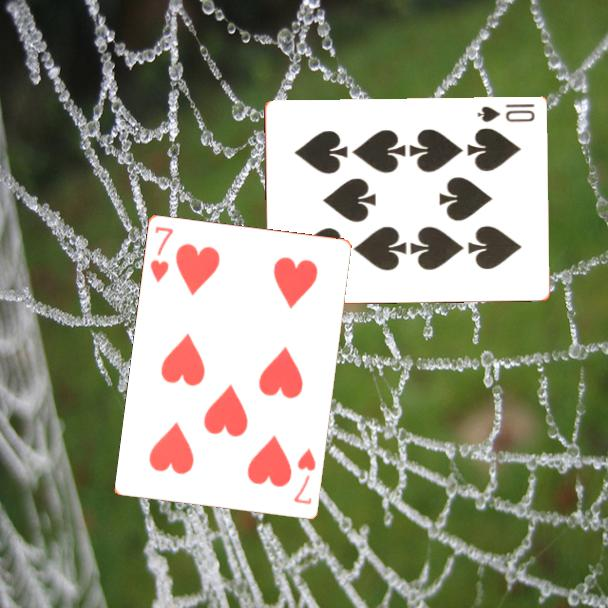h07: (147, 223, 177, 286), (290, 445, 319, 508)
s10: (474, 100, 537, 126)
